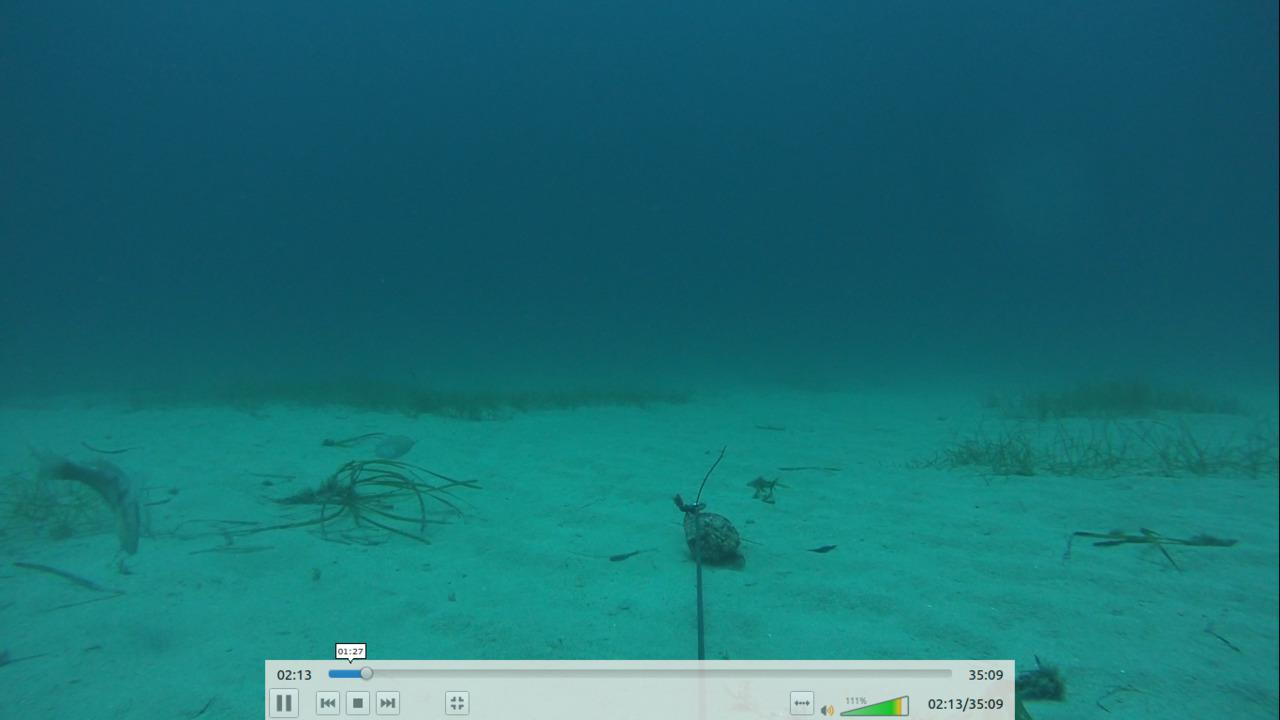raor: (368, 429, 419, 460)
